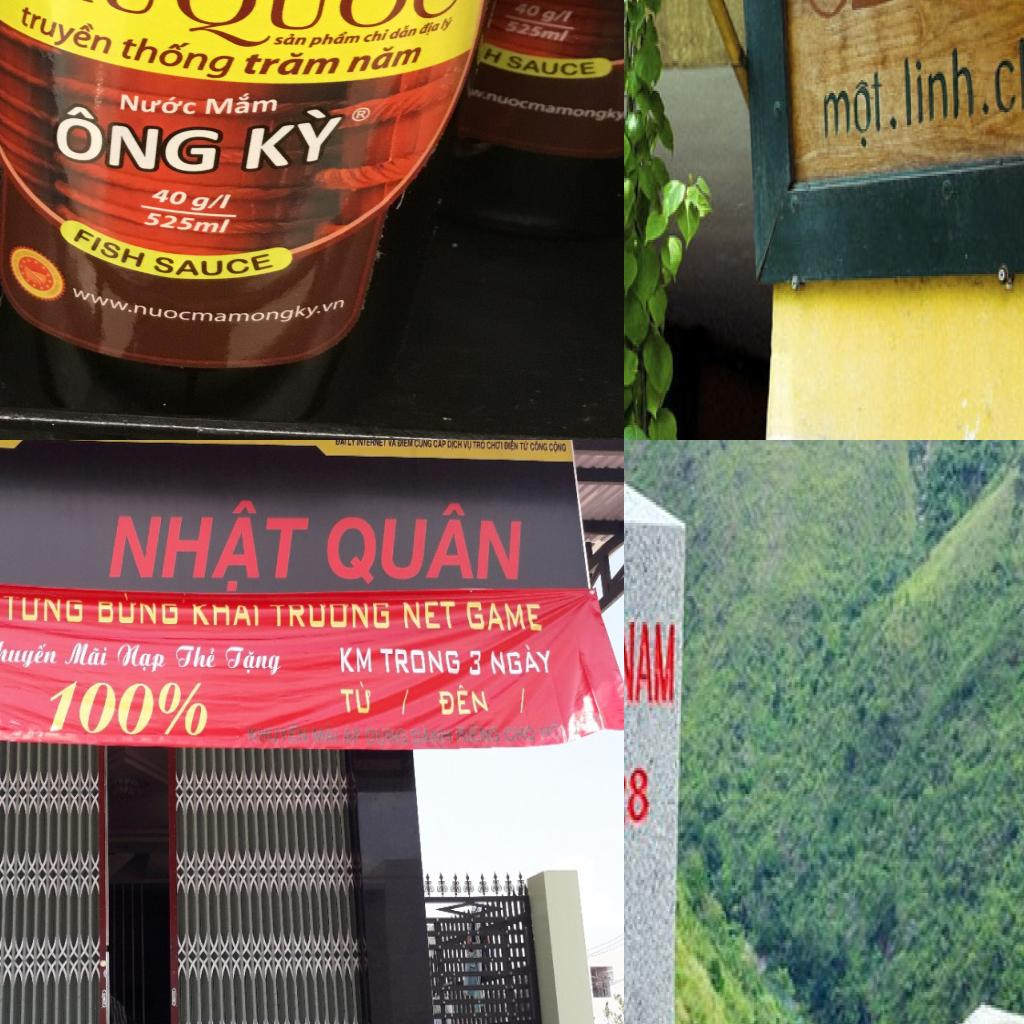text: (101, 495, 315, 594), (320, 497, 527, 587), (63, 102, 226, 178), (46, 678, 209, 736), (900, 36, 992, 132), (185, 0, 469, 28), (819, 63, 899, 159), (237, 106, 348, 175), (117, 32, 238, 82), (25, 3, 116, 57), (624, 616, 678, 705), (65, 225, 148, 271), (265, 600, 391, 630), (378, 646, 462, 678), (0, 593, 85, 624), (240, 52, 344, 77), (465, 600, 545, 632), (96, 598, 180, 628), (222, 643, 286, 681), (346, 42, 422, 73), (489, 642, 555, 676), (159, 250, 276, 268), (0, 637, 59, 672), (434, 684, 492, 719), (117, 92, 198, 116), (115, 640, 170, 675), (192, 602, 260, 629), (204, 92, 278, 116), (624, 763, 650, 828), (401, 600, 456, 630), (246, 723, 310, 746), (174, 640, 220, 671), (62, 639, 110, 668), (337, 682, 374, 718), (338, 644, 375, 676), (142, 211, 196, 232), (410, 723, 454, 747), (454, 724, 502, 746), (305, 31, 363, 49), (364, 724, 409, 747), (148, 187, 190, 207), (503, 19, 545, 39), (510, 0, 542, 20), (539, 25, 572, 44), (312, 724, 340, 746), (502, 726, 538, 742), (396, 684, 412, 718), (272, 32, 308, 46), (389, 23, 418, 40), (537, 724, 563, 742), (342, 724, 362, 747), (187, 194, 212, 212), (468, 648, 482, 678), (192, 220, 221, 234), (363, 28, 390, 43), (419, 20, 441, 38), (482, 46, 504, 64), (518, 685, 528, 718), (206, 194, 225, 210), (438, 16, 455, 33), (538, 9, 557, 24), (218, 193, 233, 211), (356, 440, 388, 448), (529, 440, 548, 453), (486, 440, 505, 452), (217, 219, 231, 234), (552, 9, 567, 23), (502, 440, 518, 453), (414, 440, 434, 450), (560, 9, 574, 23), (446, 440, 463, 451), (471, 440, 487, 451), (354, 108, 368, 120), (397, 440, 414, 449), (432, 440, 447, 450), (518, 440, 529, 452), (386, 440, 397, 450), (464, 441, 472, 452), (334, 440, 348, 446), (347, 440, 356, 448)
